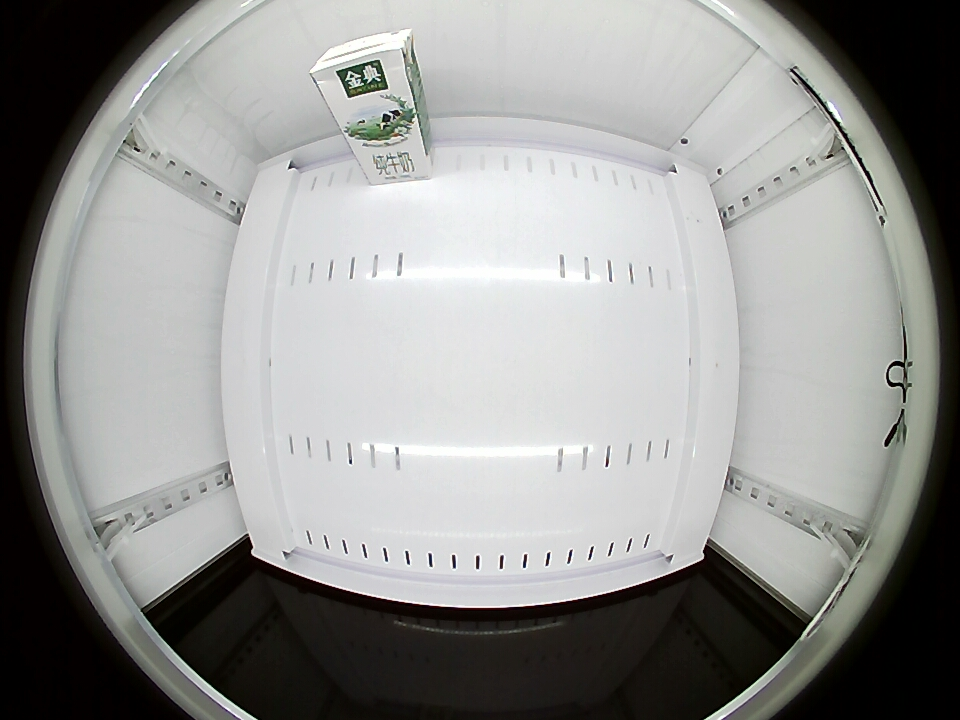jindian: (308, 28, 418, 104)
